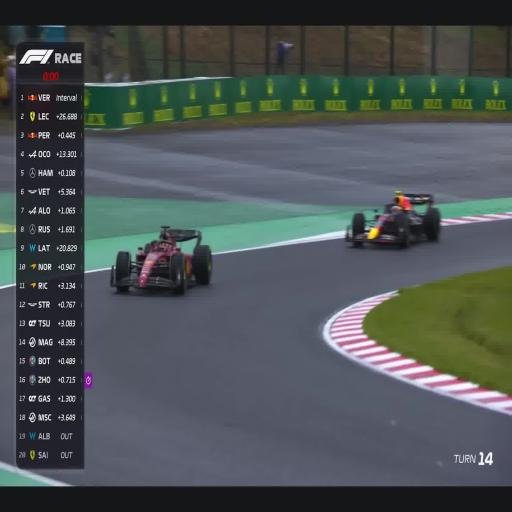f1_car: (110, 226, 212, 294), (346, 192, 441, 247)
